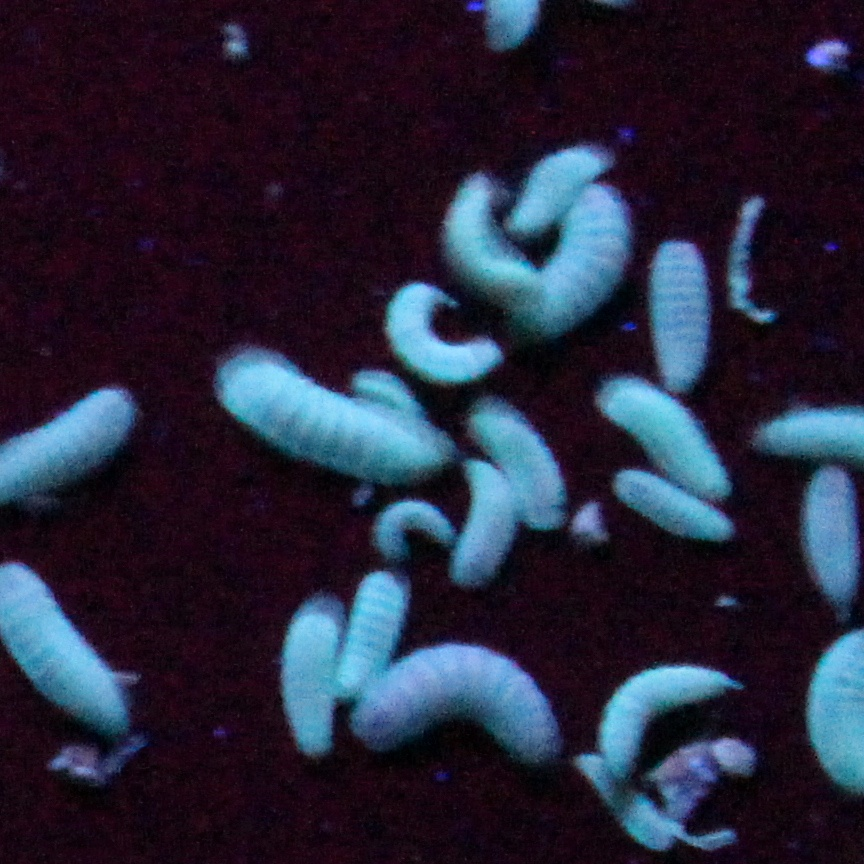larve: (207, 338, 449, 480), (358, 655, 565, 758), (584, 360, 737, 497), (534, 179, 623, 334), (607, 660, 731, 764), (384, 273, 494, 385), (435, 174, 534, 298), (473, 395, 556, 520), (645, 226, 708, 390), (280, 599, 338, 746), (610, 469, 733, 536), (517, 135, 592, 230), (345, 569, 396, 703), (811, 467, 853, 606), (462, 457, 506, 575)
